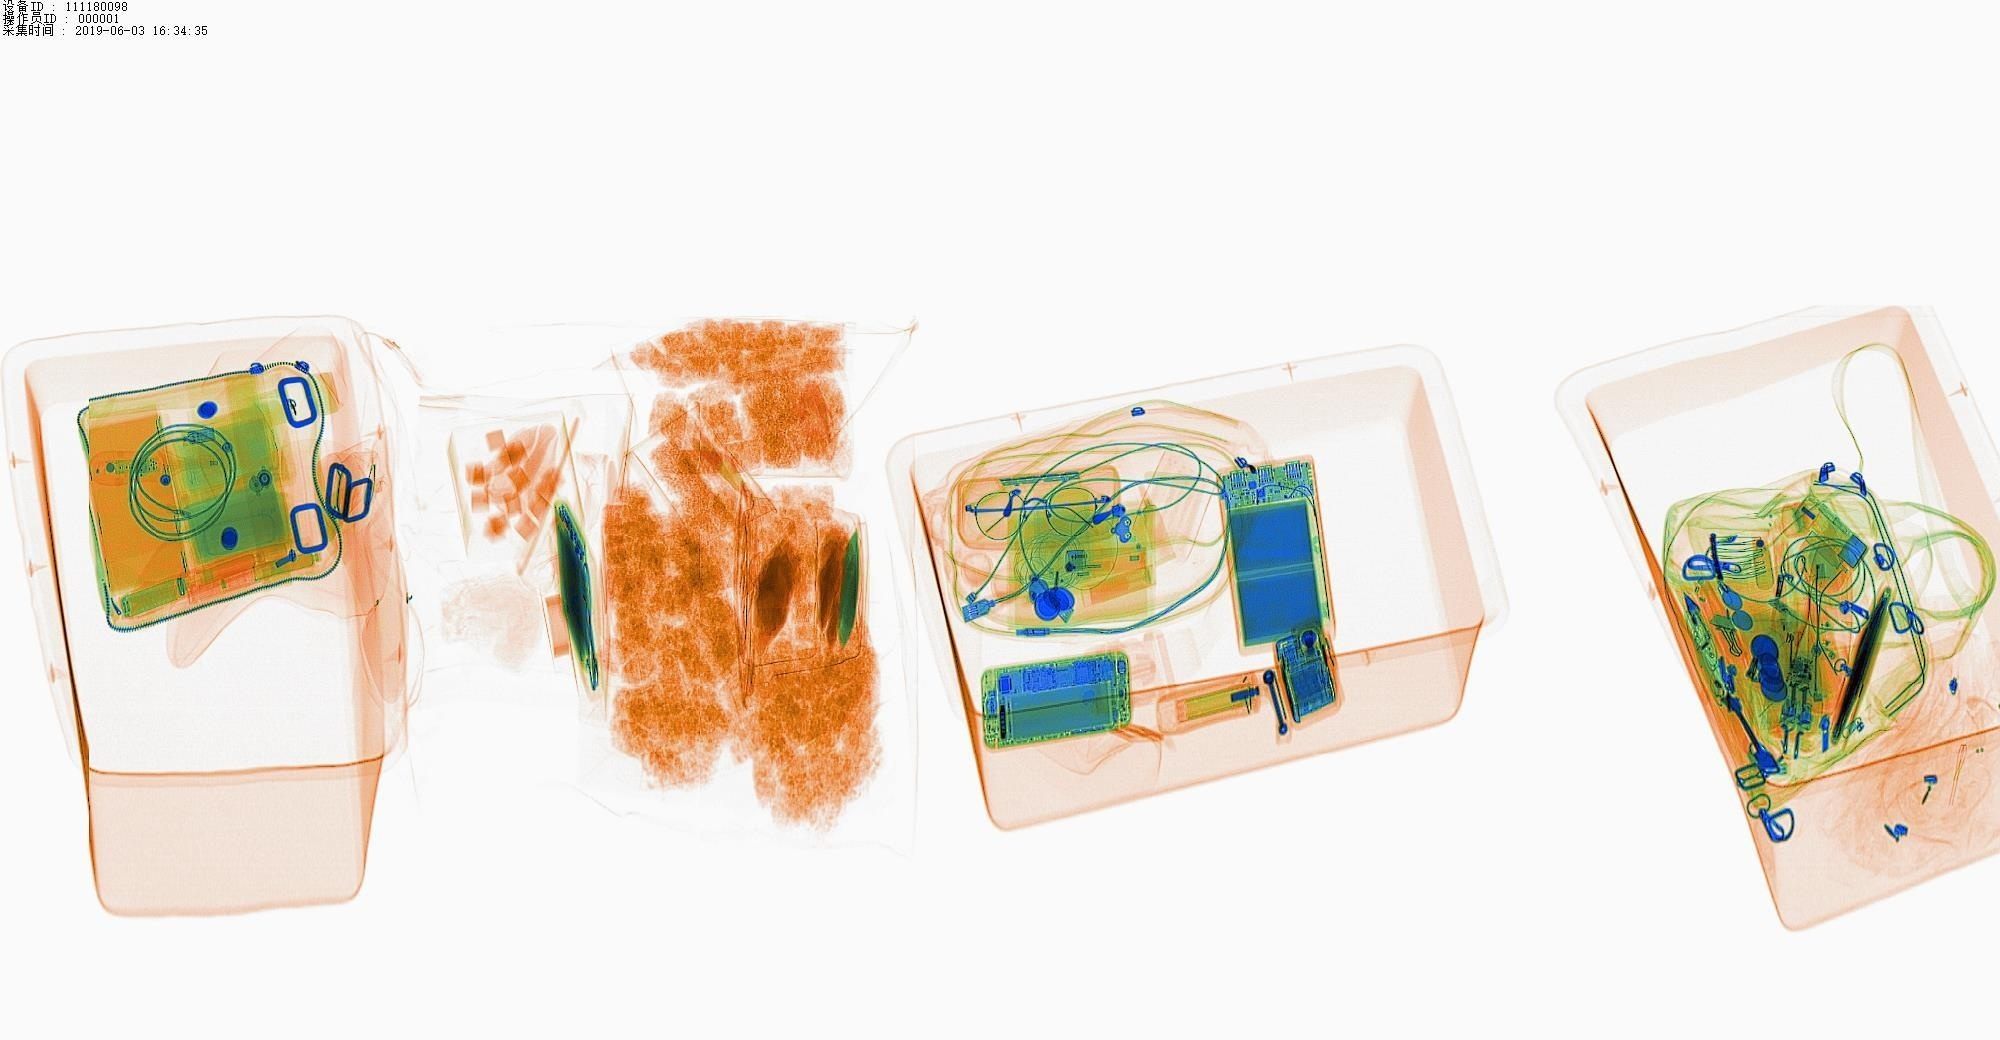NonmetallicFire: (1060, 535, 1167, 586)
